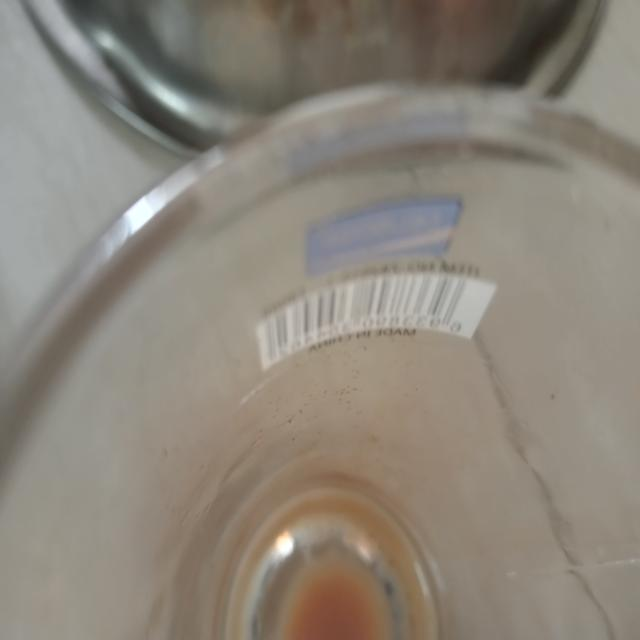glass-VX4N: (3, 79, 640, 640)
